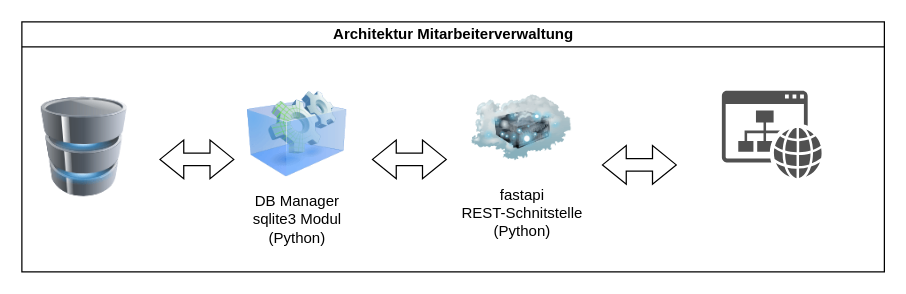
The diagram is 906 pixels wide and 294 high, and some of its shapes have lost their labels. The centre of each missing label's shape, as x and y in pixels:
Mitarbeiterverwaltung Anwendung (Website) Angular (TypeScript): the point at 771,134
SQLite3 Datenbank: the point at 84,146
